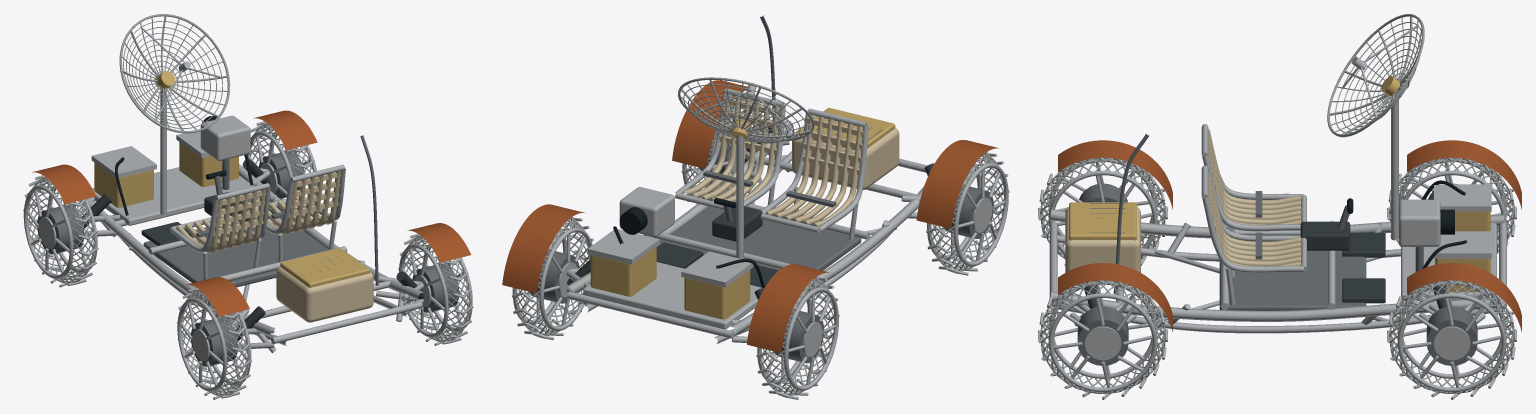
The model's file is lunar-rover.glb.
3 renders of one model, left to right at view 1: azimuth 30°, elevation 25°; view 2: azimuth 150°, elevation 25°; view 3: azimuth 270°, elevation 25°, orthographic. The views are drawn at different scales.
Bounding box in the file's own units: 2.15 × 2.08 × 3.13.
